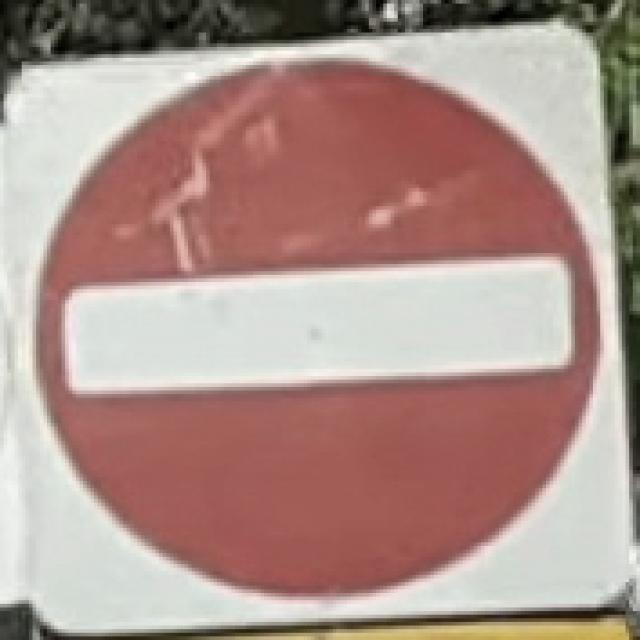noentry_sign: (0, 18, 636, 632)
